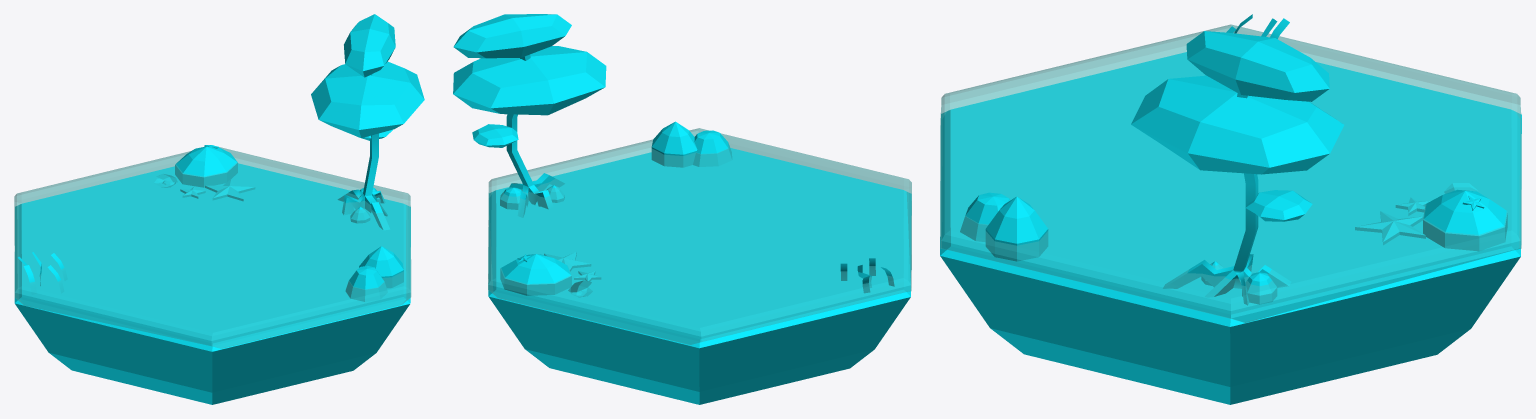
Rendered from Asset_Biome_Beach_01.fbx.
3 views of the same model, side by side, from view 1: azimuth 30°, elevation 25°; view 2: azimuth 150°, elevation 25°; view 3: azimuth 270°, elevation 25° (orthographic). The views are drawn at different scales.
Visible parts, largest first — view 1: Asset_Tile_Sand, Asset_Tile_Water, PolySurface_Tree, PolySurface_Rock_02, PolySurface_Rock_05, PolySurface_Rock_01, PolySurface_Star_02; view 2: Asset_Tile_Sand, Asset_Tile_Water, PolySurface_Tree, PolySurface_Rock_02, PolySurface_Rock_01, PolySurface_Rock_05, PolySurface_Rock_04; view 3: Asset_Tile_Sand, Asset_Tile_Water, PolySurface_Tree, PolySurface_Rock_02, PolySurface_Rock_01, PolySurface_Rock_05, PolySurface_Star_02, PolySurface_Rock_04.
Boxes of the visible parts, bbox=[...] form: Asset_Tile_Sand: bbox=[14, 163, 410, 404]; Asset_Tile_Water: bbox=[14, 147, 411, 348]; PolySurface_Tree: bbox=[311, 14, 424, 230]; PolySurface_Rock_02: bbox=[175, 146, 237, 187]; PolySurface_Rock_05: bbox=[345, 265, 387, 301]; PolySurface_Rock_01: bbox=[359, 246, 403, 288]; PolySurface_Star_02: bbox=[205, 179, 255, 200]; Asset_Tile_Sand: bbox=[488, 148, 911, 404]; Asset_Tile_Water: bbox=[488, 128, 911, 344]; PolySurface_Tree: bbox=[453, 14, 606, 217]; PolySurface_Rock_02: bbox=[500, 254, 571, 295]; PolySurface_Rock_01: bbox=[651, 121, 697, 167]; PolySurface_Rock_05: bbox=[693, 130, 732, 166]; PolySurface_Rock_04: bbox=[500, 187, 522, 209]; Asset_Tile_Sand: bbox=[940, 52, 1521, 404]; Asset_Tile_Water: bbox=[940, 24, 1521, 322]; PolySurface_Tree: bbox=[1131, 31, 1344, 305]; PolySurface_Rock_02: bbox=[1423, 189, 1507, 251]; PolySurface_Rock_01: bbox=[985, 196, 1048, 261]; PolySurface_Rock_05: bbox=[960, 192, 1010, 241]; PolySurface_Star_02: bbox=[1355, 211, 1425, 244]; PolySurface_Rock_04: bbox=[1242, 272, 1277, 304].
Bounding box in the file's own units: 458 × 283 × 378.
